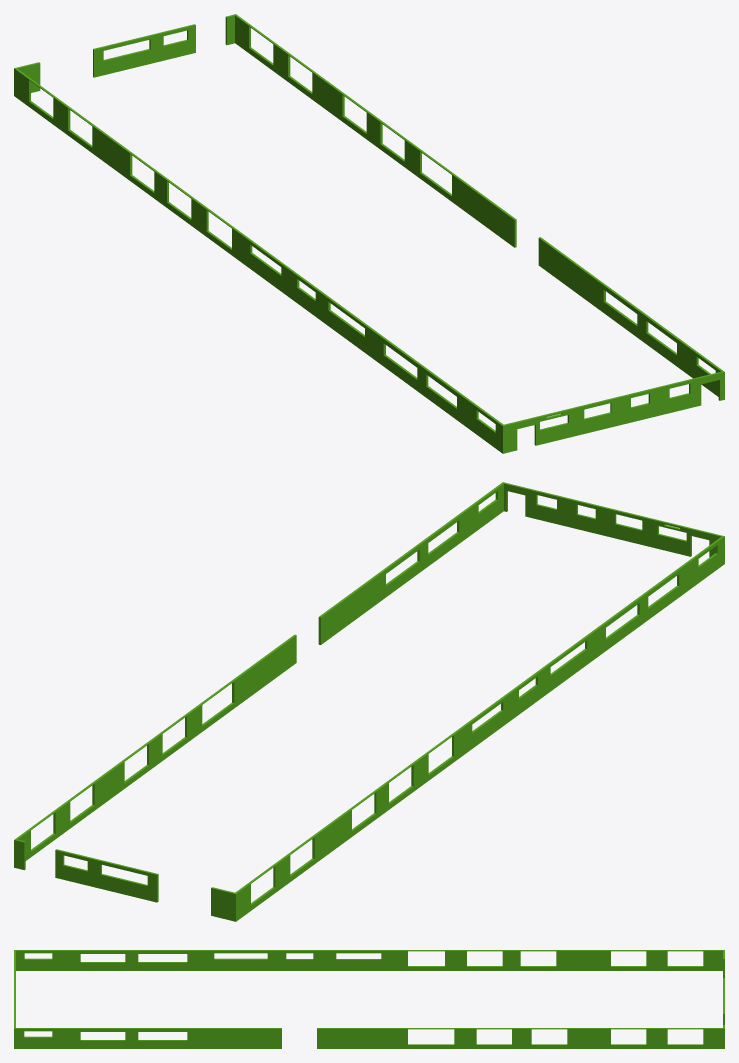
Rendered from wall.obj.
3 views of the same model, one above another, from view 1: azimuth 30°, elevation 25°; view 2: azimuth 150°, elevation 25°; view 3: azimuth 270°, elevation 25° (orthographic). The views are drawn at different scales.
Visible parts, largest first — view 1: Rectangle030; view 2: Rectangle030; view 3: Rectangle030.
Boxes of the visible parts, box(x1,y1,x2,y2) form: Rectangle030: box(14, 14, 724, 453); Rectangle030: box(14, 482, 724, 921); Rectangle030: box(14, 950, 724, 1048).
Size of the model in its own units: 1805 by 216 by 6884.
